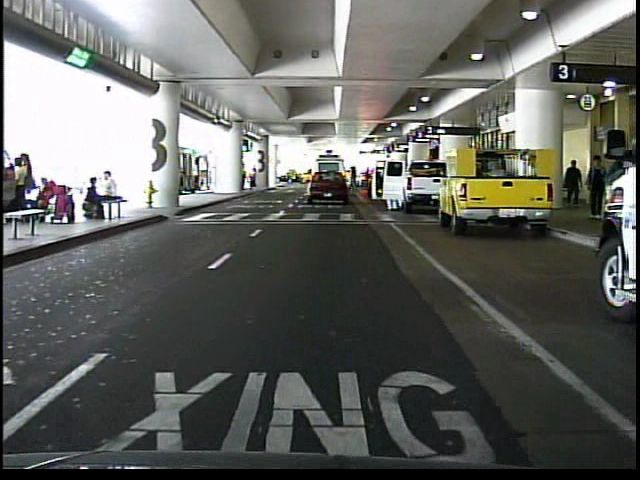person: (581, 146, 605, 220), (559, 156, 585, 213), (249, 167, 260, 191)
